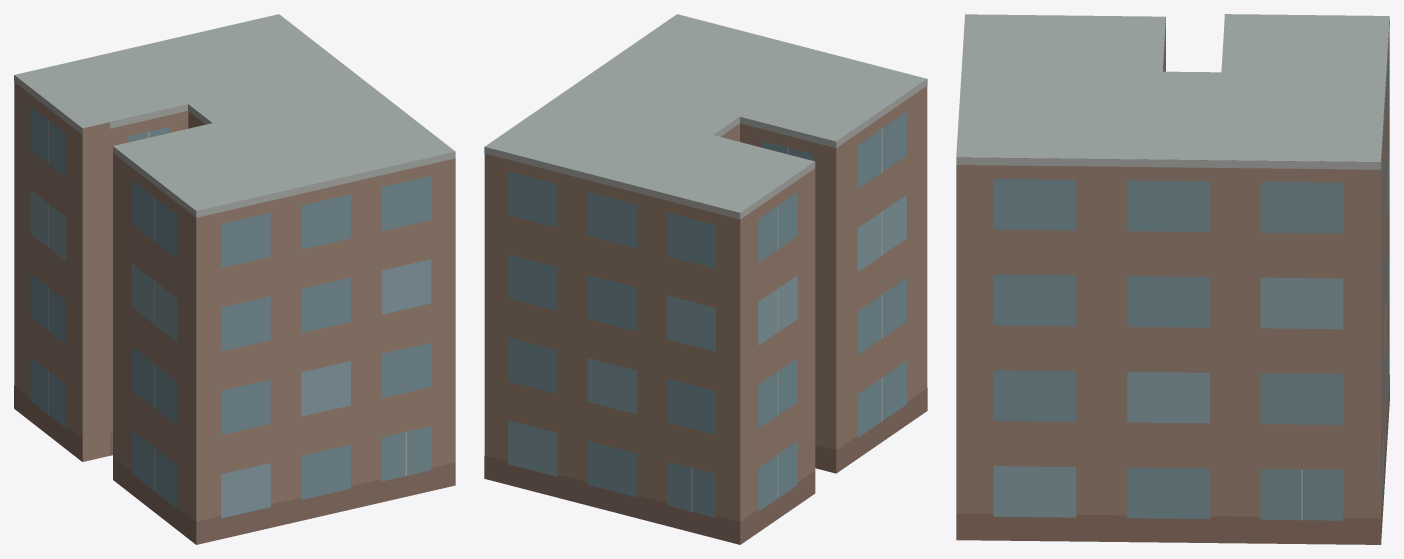
Rendered from residential-759fb50a-ed41-4ac3-87ed-4ed1df94b5b3.glb.
3 renders of one model, left to right at view 1: azimuth 30°, elevation 25°; view 2: azimuth 150°, elevation 25°; view 3: azimuth 270°, elevation 25°, orthographic. The views are drawn at different scales.
Visible parts, largest first — view 1: residential-759fb50a-ed41-4ac3-87ed-4ed1df94b5b3.tmp; view 2: residential-759fb50a-ed41-4ac3-87ed-4ed1df94b5b3.tmp; view 3: residential-759fb50a-ed41-4ac3-87ed-4ed1df94b5b3.tmp.
Boxes of the visible parts, x1=… form: residential-759fb50a-ed41-4ac3-87ed-4ed1df94b5b3.tmp: x1=14, y1=14, x2=455, y2=544; residential-759fb50a-ed41-4ac3-87ed-4ed1df94b5b3.tmp: x1=484, y1=14, x2=927, y2=544; residential-759fb50a-ed41-4ac3-87ed-4ed1df94b5b3.tmp: x1=956, y1=14, x2=1389, y2=544.
Bounding box in the file's own units: 10.13 × 12.2 × 12.54.
